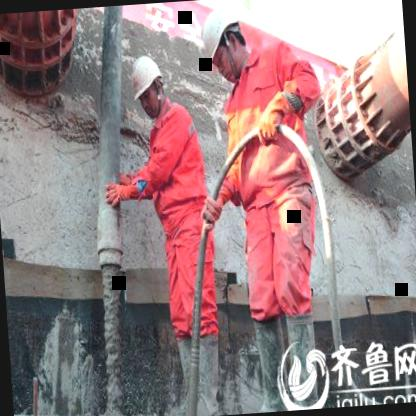helmet: (192, 2, 260, 90), (126, 50, 170, 121)
